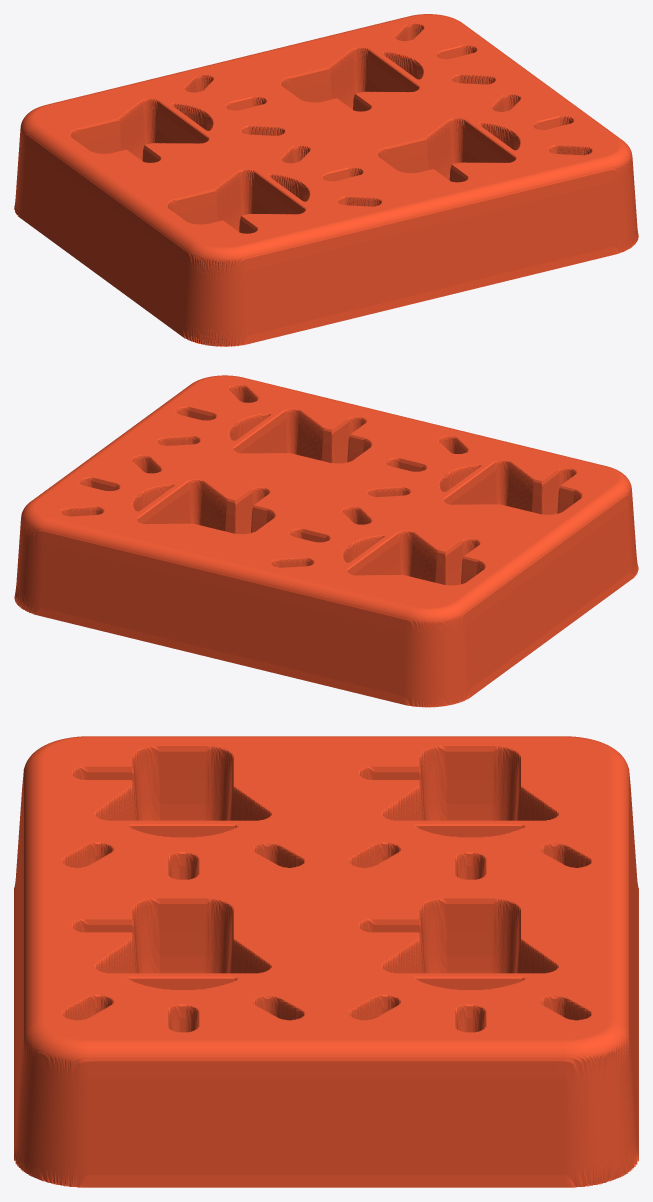
File: mold.glb
3 views of the same model, one above another, from view 1: azimuth 30°, elevation 25°; view 2: azimuth 150°, elevation 25°; view 3: azimuth 270°, elevation 25° (orthographic). The views are drawn at different scales.
Visible parts, largest first — view 1: geometry_0; view 2: geometry_0; view 3: geometry_0.
Part boxes in pixels (left/top/right/bottom): geometry_0: left=14, top=14, right=638, bottom=346; geometry_0: left=14, top=375, right=638, bottom=707; geometry_0: left=14, top=736, right=638, bottom=1187.
Size of the model in its own units: 0.0942 by 0.0182 by 0.0762.
